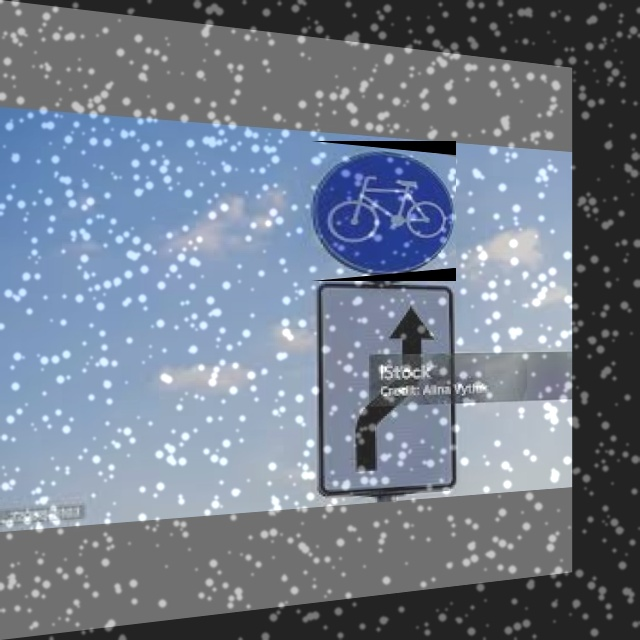Compulsory_Cycle_Track: (311, 141, 456, 281)
